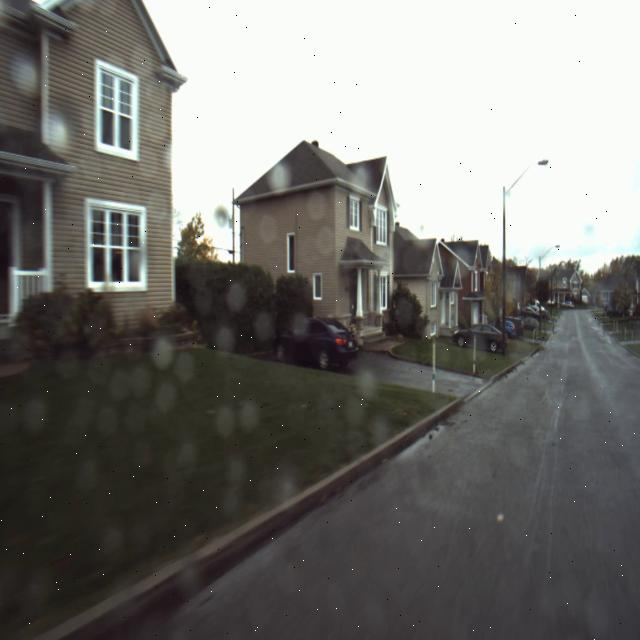car: (273, 302, 356, 387)
